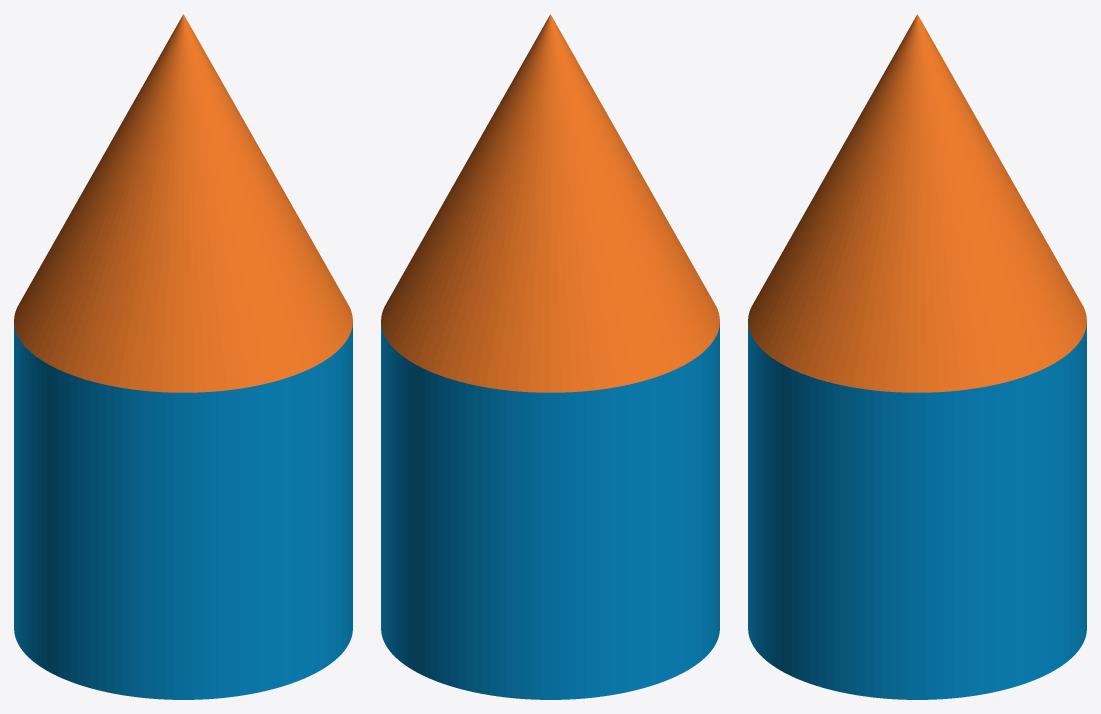
Rendered from testing.gltf.
3 renders of one model, left to right at view 1: azimuth 30°, elevation 25°; view 2: azimuth 150°, elevation 25°; view 3: azimuth 270°, elevation 25°, orthographic.
Bounding box in the file's own units: 0.04 × 0.08 × 0.04.
